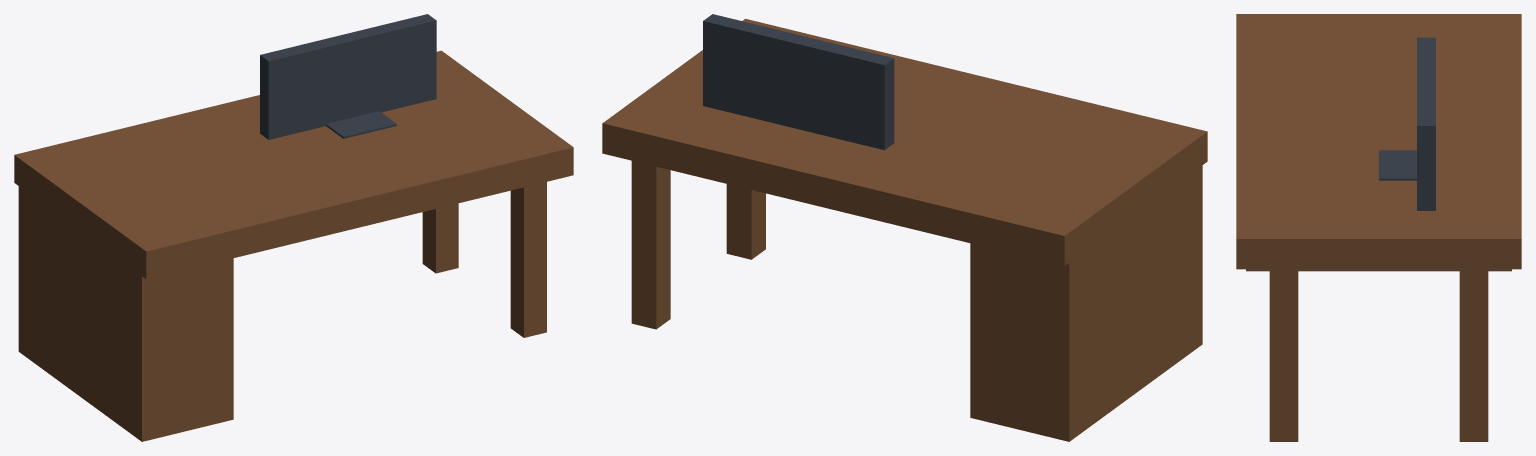
File: Prop_Escritorio.obj
3 views of the same model, side by side, from view 1: azimuth 30°, elevation 25°; view 2: azimuth 150°, elevation 25°; view 3: azimuth 270°, elevation 25° (orthographic). The views are drawn at different scales.
Parts seen in each view (by area): view 1: madera, metal; view 2: madera, metal; view 3: madera, metal.
Part boxes in pixels (left/top/right/bottom): madera: left=14, top=50, right=573, bottom=441; metal: left=260, top=14, right=436, bottom=139; madera: left=602, top=18, right=1207, bottom=441; metal: left=703, top=14, right=894, bottom=150; madera: left=1236, top=14, right=1521, bottom=441; metal: left=1379, top=37, right=1435, bottom=210.
Size of the model in its own units: 0.56 by 0.341 by 0.3.
